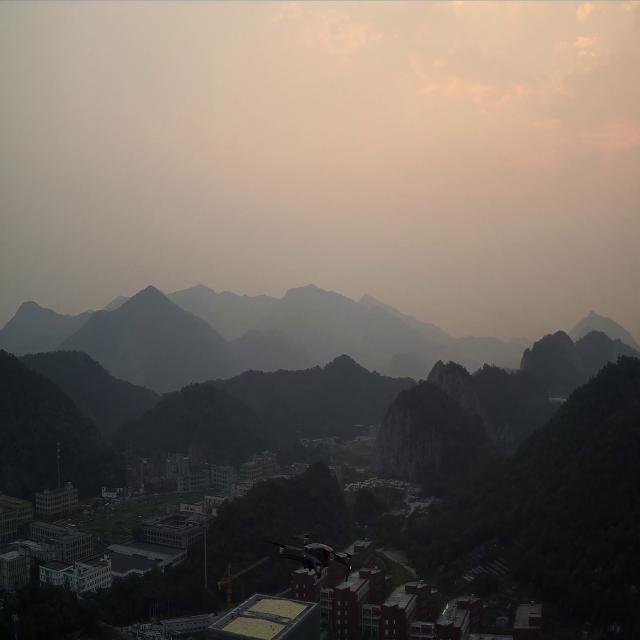UAV: (264, 528, 356, 586)
